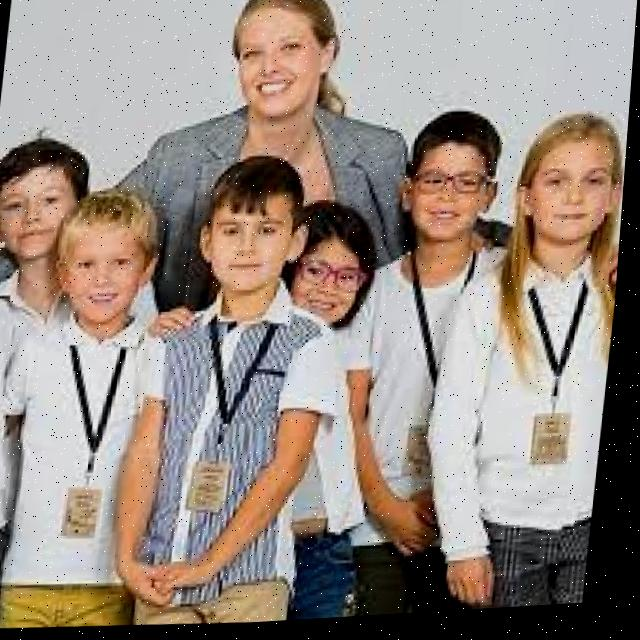id_card: (505, 277, 610, 483), (42, 335, 136, 551), (190, 309, 278, 526)
